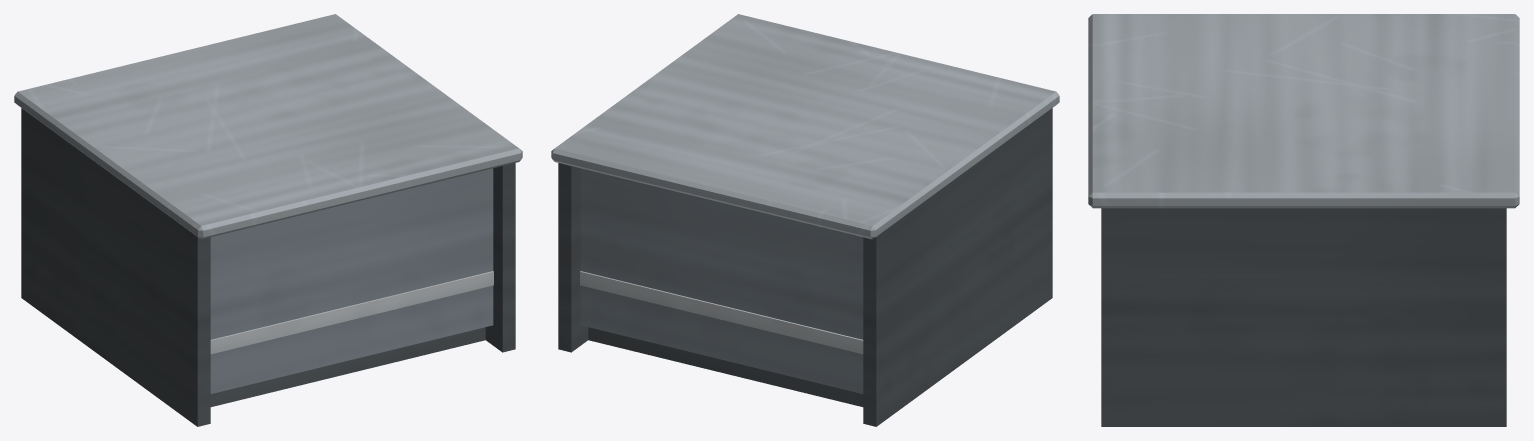
File: rail_1m.glb
The picture shows the model from 3 angles, left to right: view 1: azimuth 30°, elevation 25°; view 2: azimuth 150°, elevation 25°; view 3: azimuth 270°, elevation 25°; orthographic projection. The views are drawn at different scales.
Visible parts, largest first — view 1: rail_1m_body; view 2: rail_1m_body; view 3: rail_1m_body.
Boxes of the visible parts, x1,y1,x2,y2 form: rail_1m_body: (14, 14, 522, 426); rail_1m_body: (551, 14, 1059, 426); rail_1m_body: (1088, 14, 1519, 426).
Bounding box in the file's own units: 1 × 0.6 × 1.
Materials: 4 (4 with a texture image).
